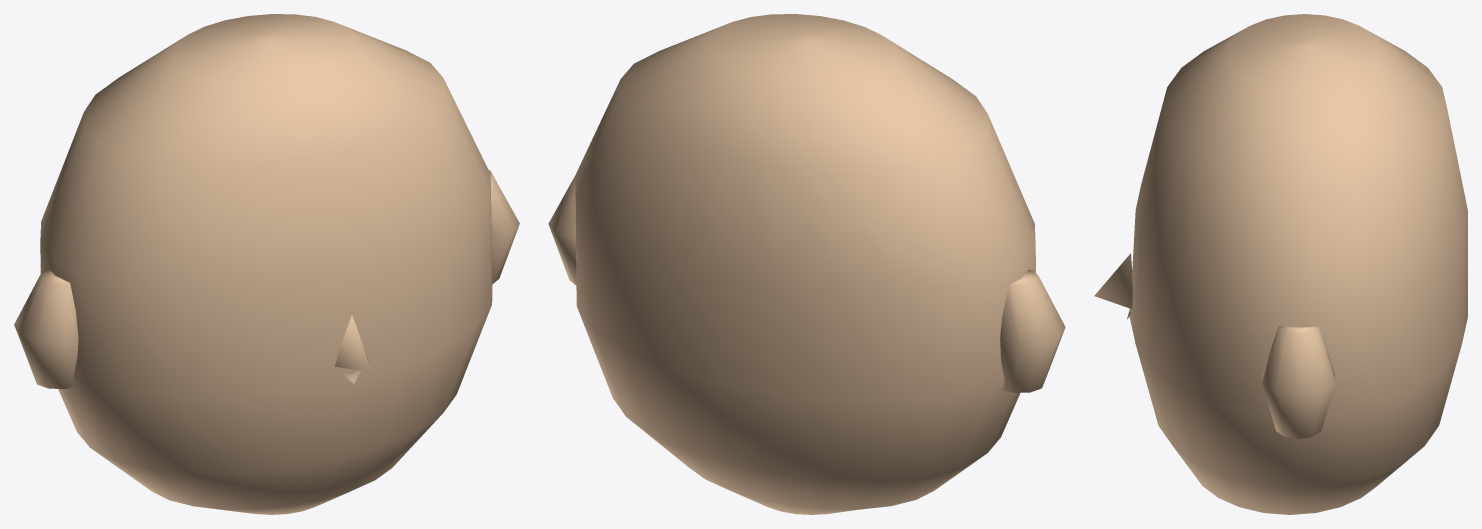
Rendered from round.glb.
3 views of the same model, side by side, from view 1: azimuth 30°, elevation 25°; view 2: azimuth 150°, elevation 25°; view 3: azimuth 270°, elevation 25° (orthographic). The views are drawn at different scales.
Parts seen in each view (by area): view 1: sculpted_head, ear (×2), nose; view 2: sculpted_head, ear (×2); view 3: sculpted_head, ear, nose.
Boxes of the visible parts, left/top/right/bottom form: sculpted_head: left=40, top=14, right=492, bottom=514; ear (×2): left=14, top=170, right=519, bottom=388; nose: left=335, top=315, right=370, bottom=383; sculpted_head: left=575, top=14, right=1035, bottom=514; ear (×2): left=548, top=176, right=1065, bottom=392; sculpted_head: left=1129, top=14, right=1467, bottom=514; ear: left=1262, top=326, right=1335, bottom=438; nose: left=1094, top=253, right=1132, bottom=319.
Bounding box in the file's own units: 0.95 × 0.82 × 0.63.
